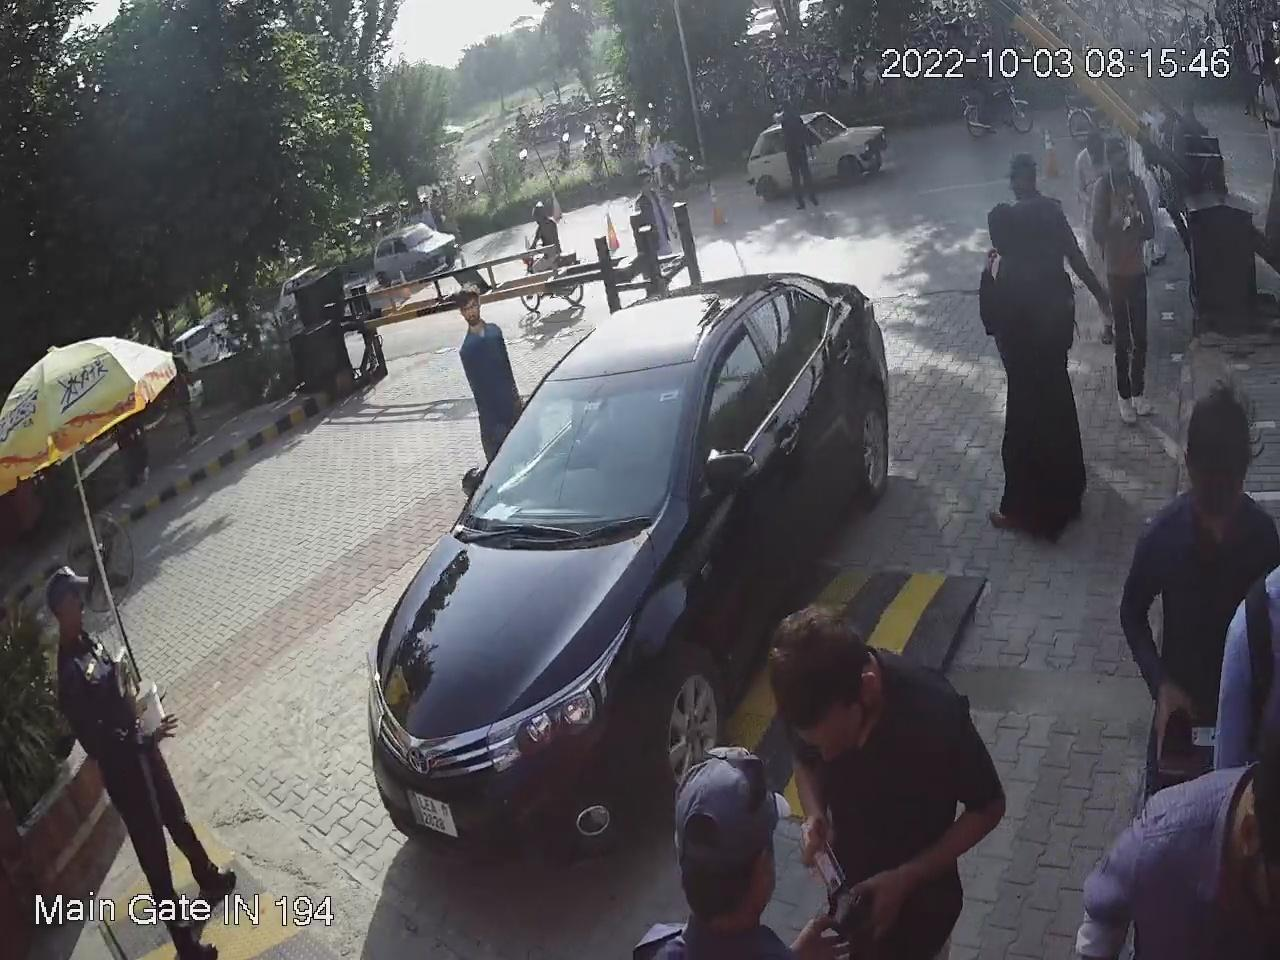windshield: (449, 355, 695, 550)
